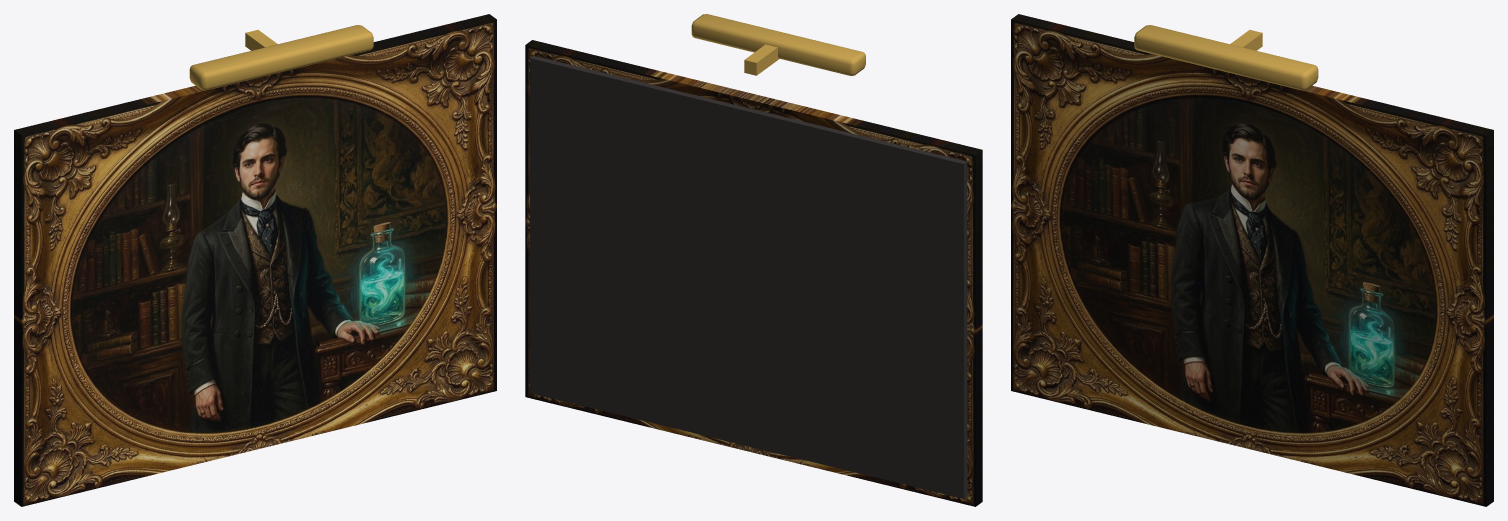
The model's file is painting_young_kier.gltf.
3 views of the same model, side by side, from view 1: azimuth 30°, elevation 25°; view 2: azimuth 150°, elevation 25°; view 3: azimuth 330°, elevation 25° (orthographic). The views are drawn at different scales.
Parts seen in each view (by area): view 1: CANVAS, painting_young_kier_mesh; view 2: painting_young_kier_mesh, CANVAS; view 3: CANVAS, painting_young_kier_mesh.
Boxes of the visible parts, bbox=[...] form: CANVAS: bbox=[14, 14, 496, 506]; painting_young_kier_mesh: bbox=[189, 25, 373, 90]; painting_young_kier_mesh: bbox=[530, 14, 967, 498]; CANVAS: bbox=[525, 40, 982, 506]; CANVAS: bbox=[1011, 14, 1493, 506]; painting_young_kier_mesh: bbox=[1134, 25, 1318, 90].
Bounding box in the file's own units: 1.1 × 0.9213 × 0.165.
Materials: 3 (1 with a texture image).
